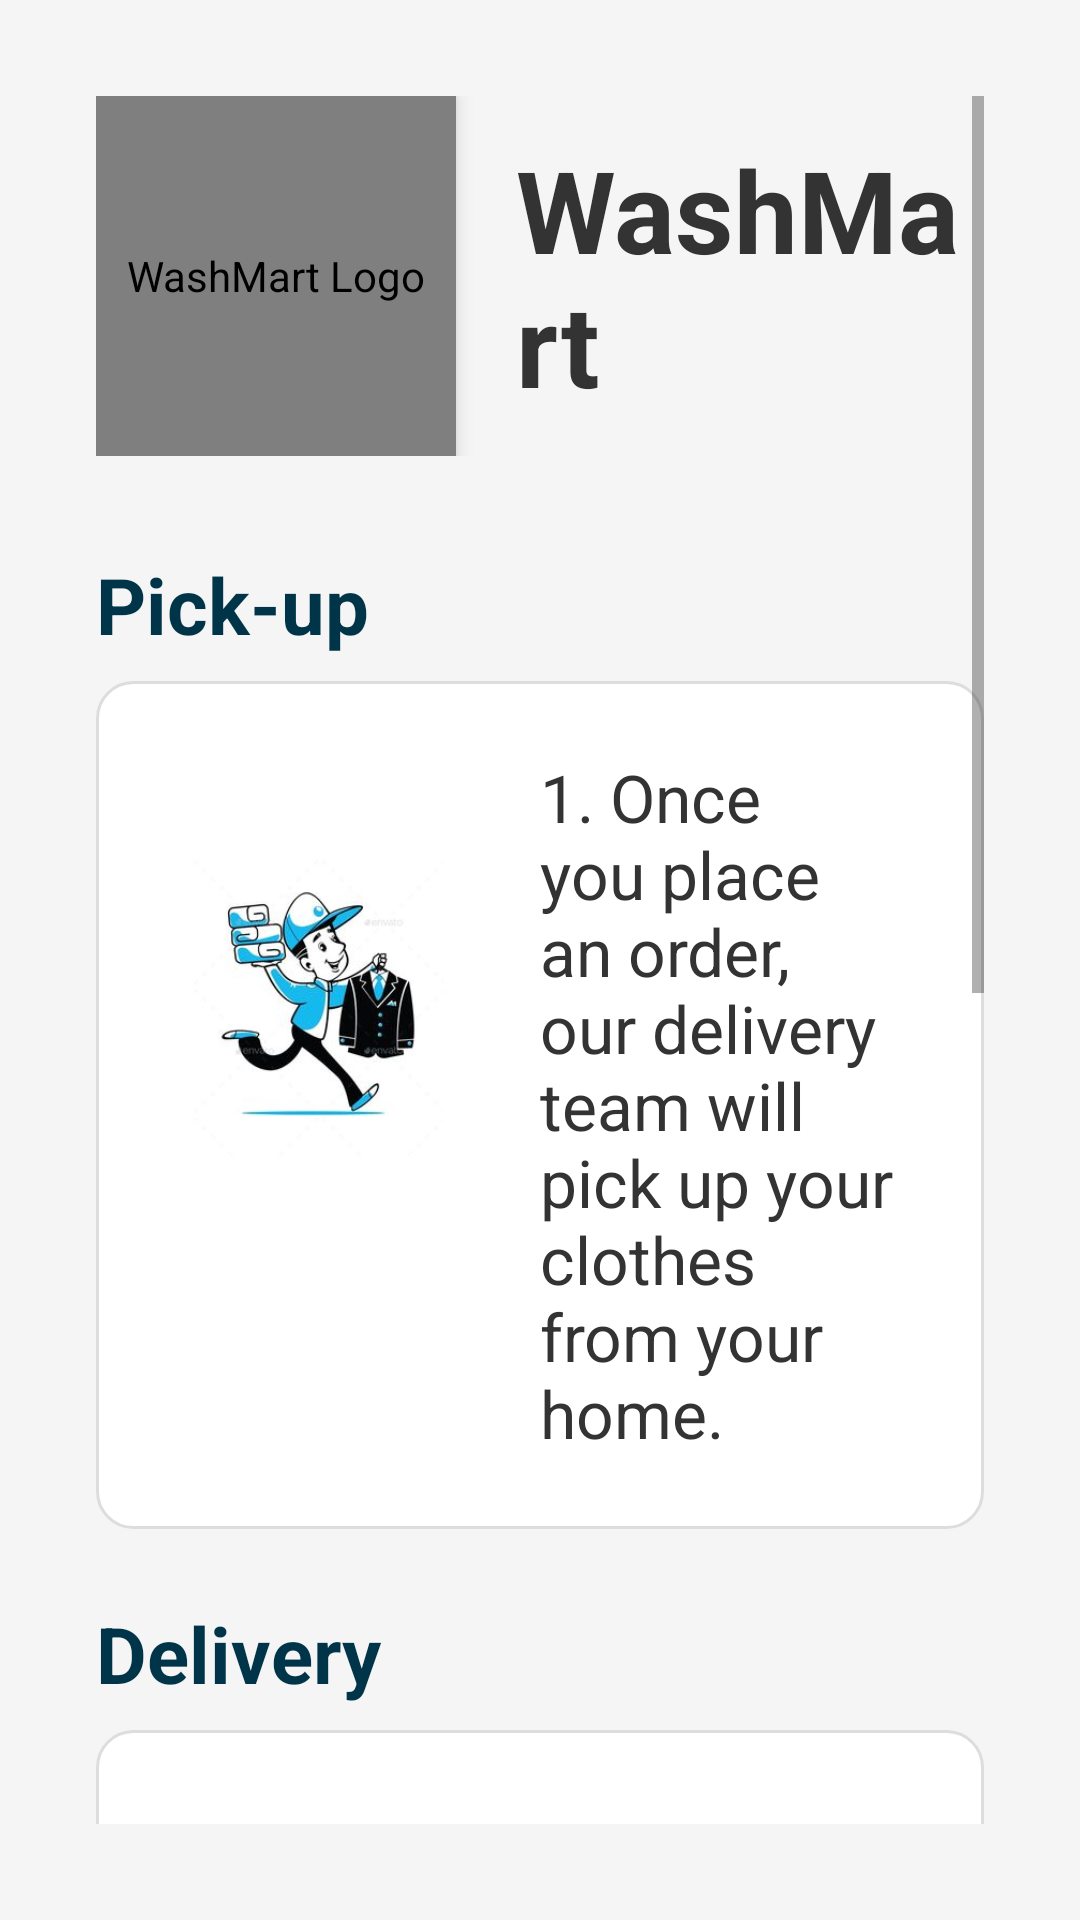

Locate icon controls on the screen. Image size 1080px x 1920px, boxes as (x1, y1, x2, y2).
Delivery Boy Icon: (221, 892, 415, 1116)
